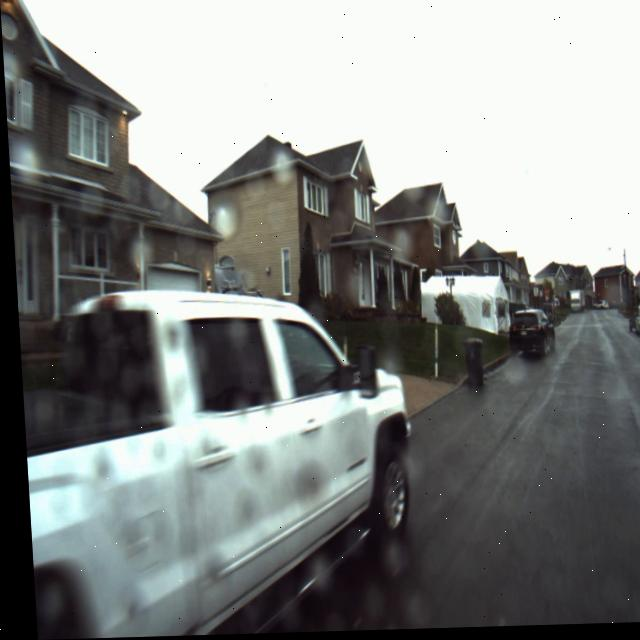car: (502, 301, 549, 371)
